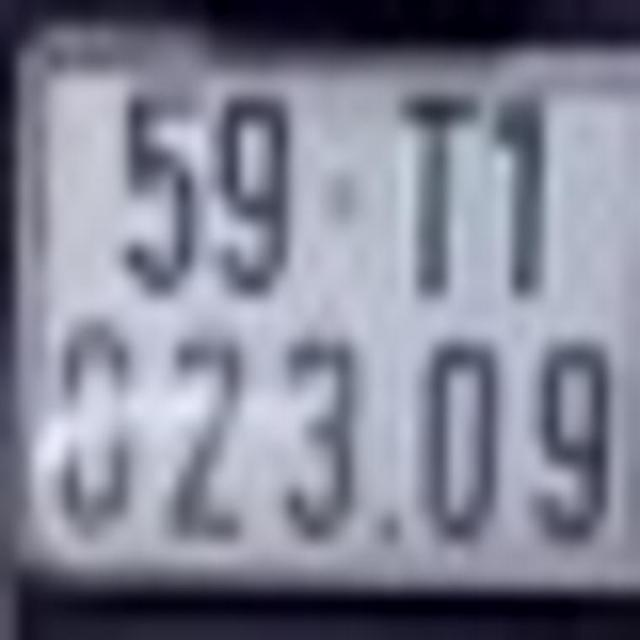0: (51, 306, 142, 528), (418, 322, 508, 545)
1: (491, 83, 552, 296)
2: (164, 332, 255, 548)
3: (273, 324, 368, 550)
5: (120, 82, 204, 301)
9: (215, 73, 305, 305), (529, 332, 615, 556)
T: (391, 88, 484, 304)
